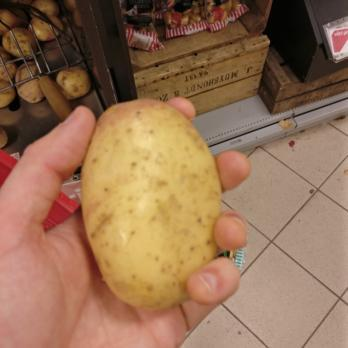Floury potato: (77, 94, 221, 311)
